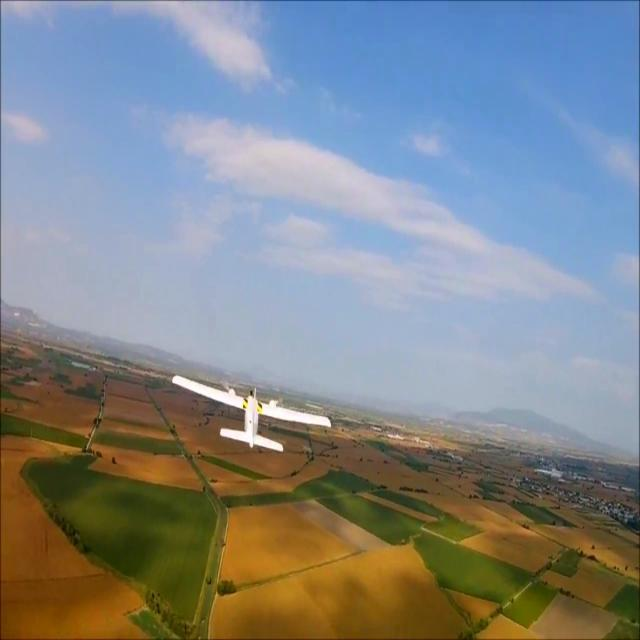iha: (167, 407, 333, 433)
